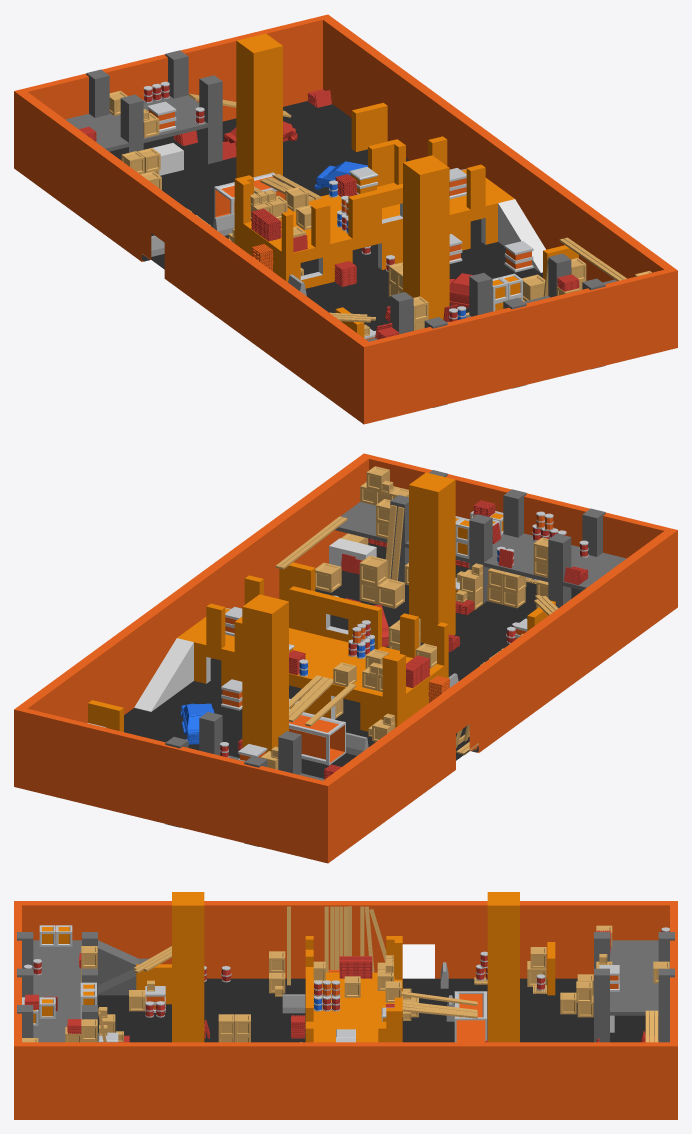
File: stage.glb
3 views of the same model, one above another, from view 1: azimuth 30°, elevation 25°; view 2: azimuth 150°, elevation 25°; view 3: azimuth 270°, elevation 25° (orthographic). The views are drawn at different scales.
Parts seen in each view (by area): view 1: material_9, material_6, plane, material_11, material, material_3, material_4, stair, blue, barier, material_8; view 2: material_9, material_6, material, material_11, plane, material_3, material_4, stair, blue, material_8, 3.015, Point; view 3: material_9, material_6, plane, material_11, material, material_4, material_3, barier.
Part boxes in pixels (x1=…): material_9: x1=14, y1=14, x2=677, y2=424; material_6: x1=234, y1=33, x2=578, y2=337; plane: x1=110, y1=101, x2=542, y2=330; material_11: x1=65, y1=50, x2=616, y2=407; material: x1=109, y1=90, x2=651, y2=336; material_3: x1=79, y1=85, x2=579, y2=339; material_4: x1=143, y1=81, x2=533, y2=339; stair: x1=460, y1=169, x2=545, y2=272; blue: x1=314, y1=161, x2=465, y2=319; barier: x1=151, y1=213, x2=306, y2=295; material_8: x1=153, y1=143, x2=183, y2=175; material_9: x1=14, y1=453, x2=677, y2=863; material_6: x1=88, y1=472, x2=555, y2=752; material: x1=260, y1=466, x2=558, y2=769; material_11: x1=165, y1=470, x2=626, y2=846; plane: x1=124, y1=543, x2=581, y2=778; material_3: x1=220, y1=500, x2=588, y2=779; material_4: x1=87, y1=511, x2=588, y2=765; stair: x1=134, y1=608, x2=231, y2=711; blue: x1=180, y1=550, x2=499, y2=744; material_8: x1=329, y1=538, x2=376, y2=566; 3.015: x1=359, y1=555, x2=387, y2=585; Point: x1=315, y1=562, x2=341, y2=592; material_9: x1=14, y1=901, x2=677, y2=1119; material_6: x1=33, y1=892, x2=555, y2=1042; plane: x1=98, y1=978, x2=658, y2=1042; material_11: x1=17, y1=932, x2=674, y2=1042; material: x1=22, y1=906, x2=669, y2=1042; material_4: x1=22, y1=925, x2=669, y2=1042; material_3: x1=24, y1=930, x2=669, y2=1042; barier: x1=282, y1=962, x2=454, y2=1021.
Bounding box in the file's own units: 25.5 × 12.15 × 49.2.
